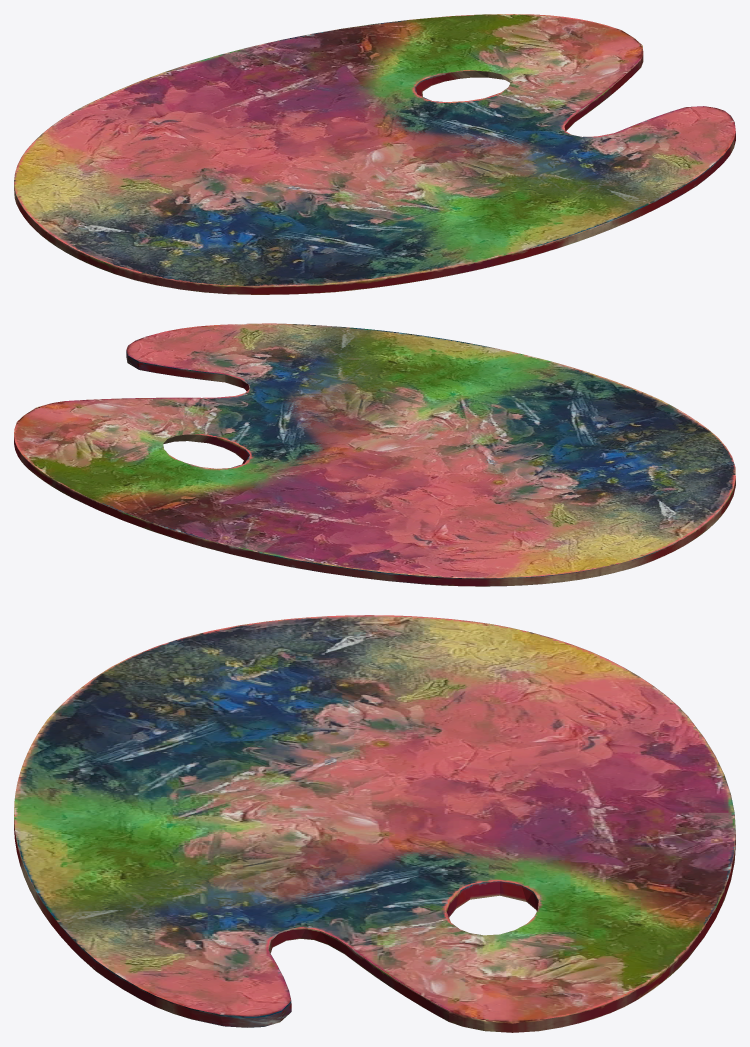
The model's file is SM_Wooden_Paint_Palette_Wooden_Paint_Palette.glb.
3 views of the same model, one above another, from view 1: azimuth 30°, elevation 25°; view 2: azimuth 150°, elevation 25°; view 3: azimuth 270°, elevation 25° (orthographic). The views are drawn at different scales.
Visible parts, largest first — view 1: SM_Wooden_Paint_Palette_Wooden_Paint_Palette; view 2: SM_Wooden_Paint_Palette_Wooden_Paint_Palette; view 3: SM_Wooden_Paint_Palette_Wooden_Paint_Palette.
Part boxes in pixels (<box>): SM_Wooden_Paint_Palette_Wooden_Paint_Palette: <box>14,14,735,294</box>; SM_Wooden_Paint_Palette_Wooden_Paint_Palette: <box>14,323,735,586</box>; SM_Wooden_Paint_Palette_Wooden_Paint_Palette: <box>14,615,735,1032</box>.
Size of the model in its own units: 0.4002 by 0.00534 by 0.3.
1 material, 1 textured.
